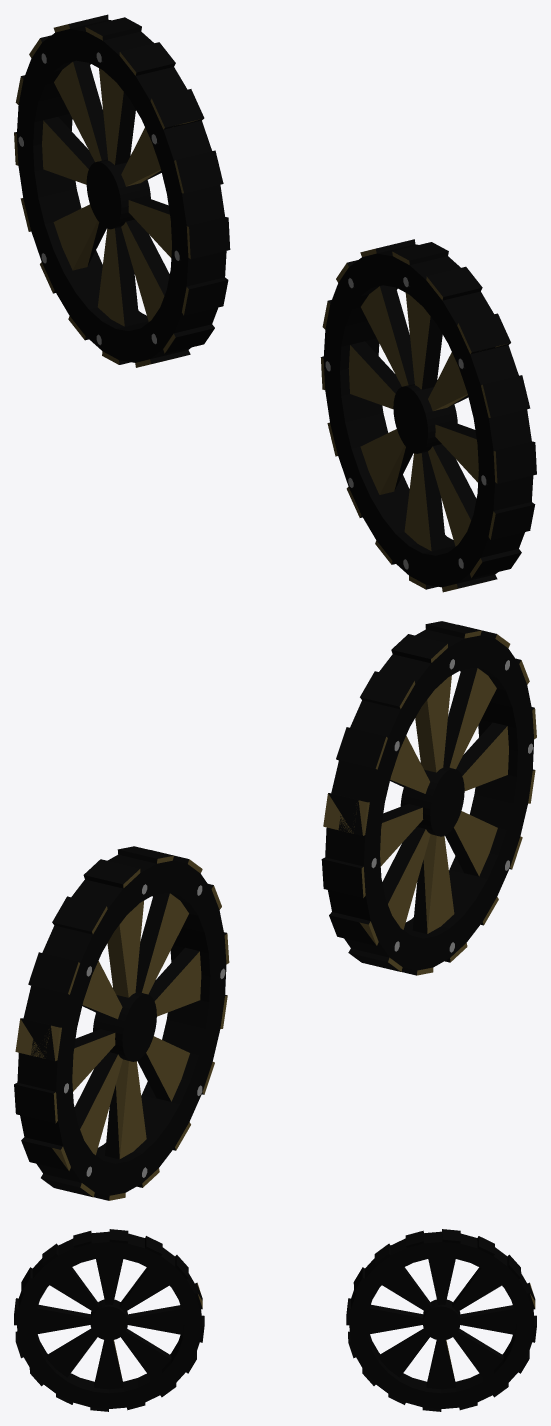
File: WheelsTruck.glb
The picture shows the model from 3 angles, top to bottom: view 1: azimuth 30°, elevation 25°; view 2: azimuth 150°, elevation 25°; view 3: azimuth 270°, elevation 25°; orthographic projection. The views are drawn at different scales.
Parts seen in each view (by area): view 1: WheelTruckBack, WheelTruckFront; view 2: WheelTruckBack, WheelTruckFront; view 3: WheelTruckBack, WheelTruckFront.
Boxes of the visible parts, <box> form: WheelTruckBack: <box>14,14,230,367</box>; WheelTruckFront: <box>320,239,536,592</box>; WheelTruckBack: <box>14,846,229,1200</box>; WheelTruckFront: <box>321,621,536,975</box>; WheelTruckBack: <box>346,1229,536,1411</box>; WheelTruckFront: <box>14,1229,204,1411</box>.
Size of the model in its own units: 0.4095 by 2.87 by 7.87.
